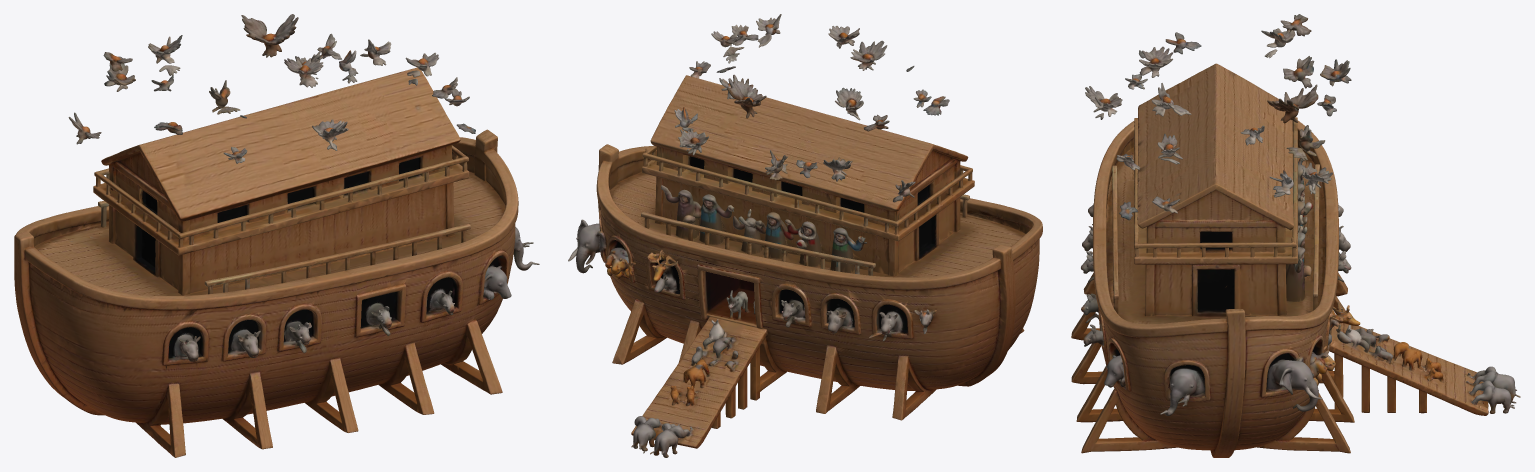
File: page-07.glb
3 views of the same model, side by side, from view 1: azimuth 30°, elevation 25°; view 2: azimuth 150°, elevation 25°; view 3: azimuth 270°, elevation 25° (orthographic). The views are drawn at different scales.
Parts seen in each view (by area): view 1: tripo_node_3306ad88-075a-4d41-b267-9f50274e3a66; view 2: tripo_node_3306ad88-075a-4d41-b267-9f50274e3a66; view 3: tripo_node_3306ad88-075a-4d41-b267-9f50274e3a66.
Boxes of the visible parts, left/top/right/bottom form: tripo_node_3306ad88-075a-4d41-b267-9f50274e3a66: left=14, top=14, right=539, bottom=457; tripo_node_3306ad88-075a-4d41-b267-9f50274e3a66: left=568, top=14, right=1042, bottom=457; tripo_node_3306ad88-075a-4d41-b267-9f50274e3a66: left=1071, top=14, right=1520, bottom=457.
Size of the model in its own units: 1 by 0.7043 by 0.8486.
1 material, 1 textured.
